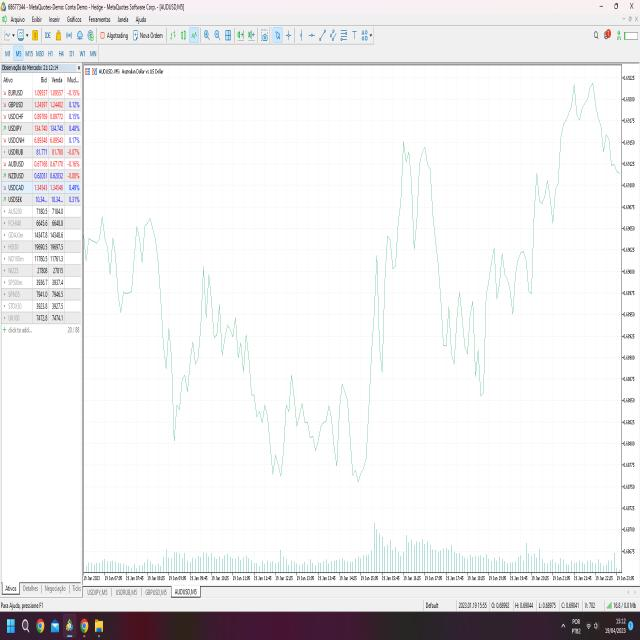bandeira_alta: (480, 223, 532, 425)
fundo_duplo: (264, 377, 290, 494)
topo_duplo: (394, 124, 439, 300)
